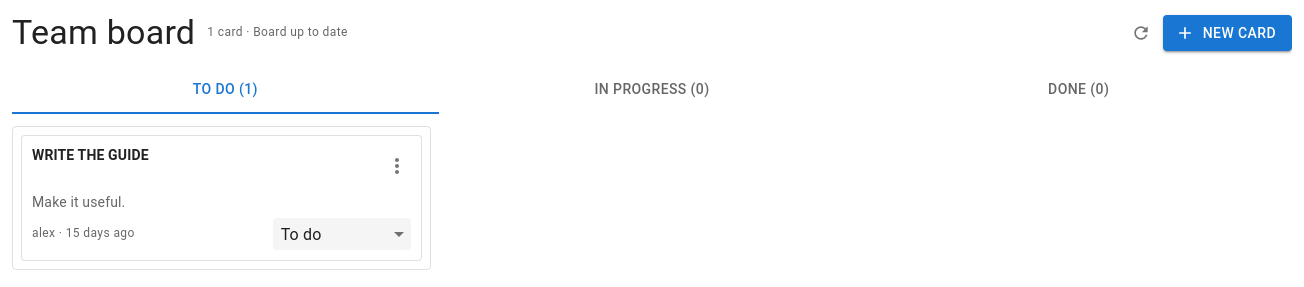
Test: shared kanban board › follows a moved card to its mobile column after the versioned move succeeds
The width and height of the screenshot is (1304, 287).
Expected: the element that starts with "Write the guide" is shown, [21, 135, 422, 261]
Select "In progress" in the dropdown named "Status for Write the guide" at (342, 234), box [281, 218, 403, 250]
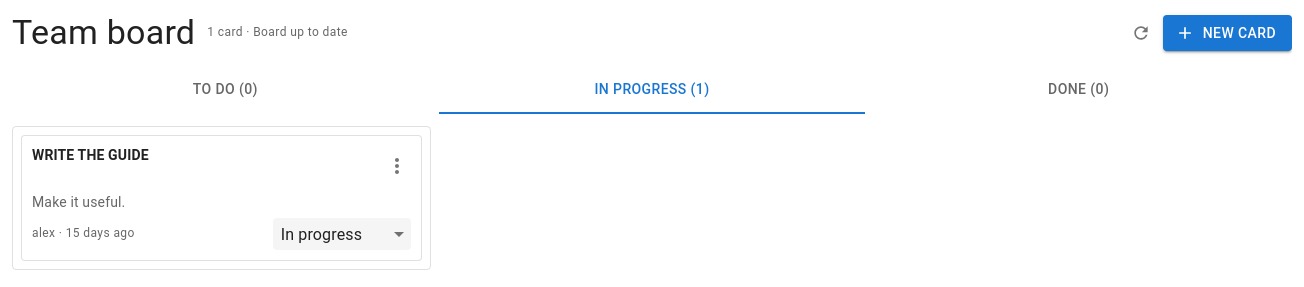
Expected: the element "Write the guide" is shown, [21, 135, 422, 261]
Now the tab "In progress (1)" is shown, box [439, 66, 865, 114]
